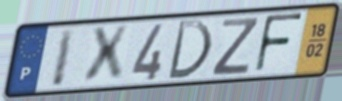4: (128, 22, 164, 83)
D: (164, 18, 214, 81)
F: (252, 11, 306, 76)
I: (49, 26, 77, 90)
X: (82, 23, 131, 88)
Z: (209, 16, 262, 77)
